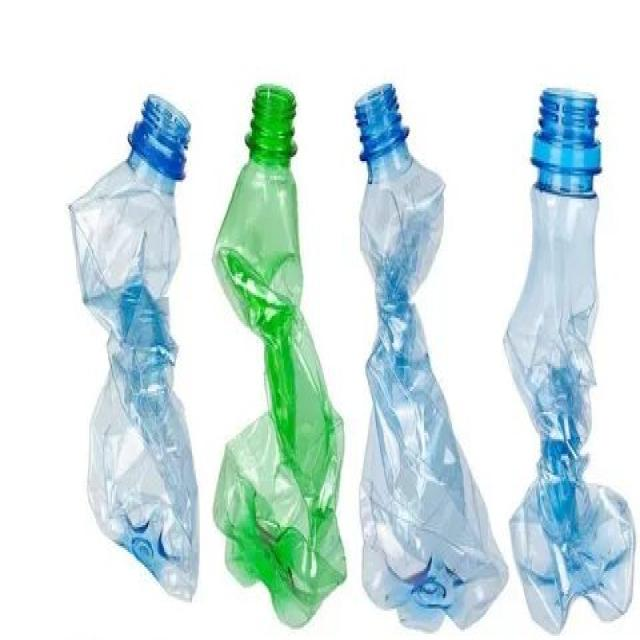blue: (354, 85, 511, 631), (501, 89, 634, 635), (66, 87, 200, 605)
green: (212, 84, 346, 627)
